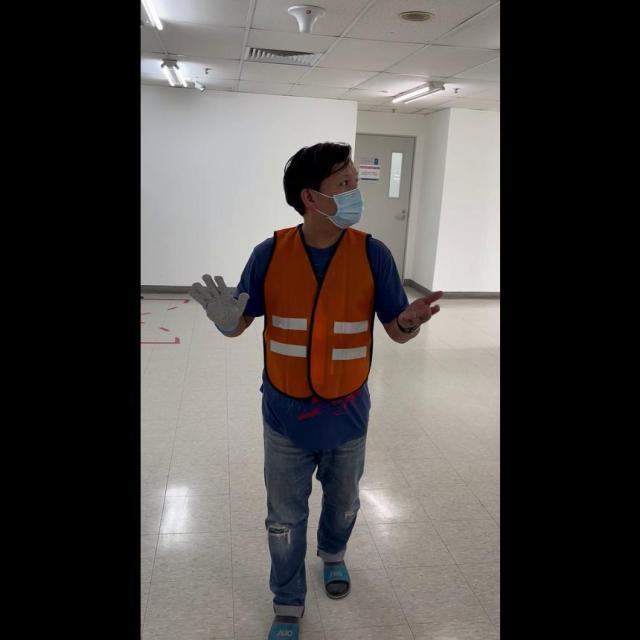bare_hand: (395, 284, 441, 333)
gloved_hand: (187, 269, 251, 332)
